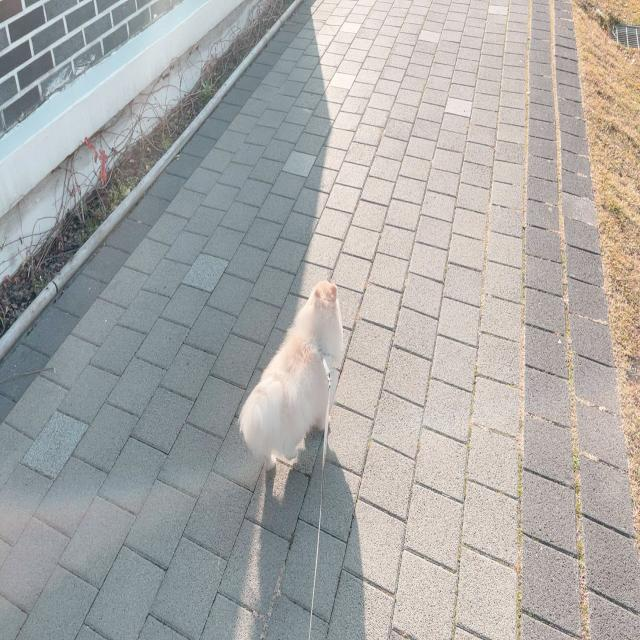Dog: (238, 278, 344, 474)
